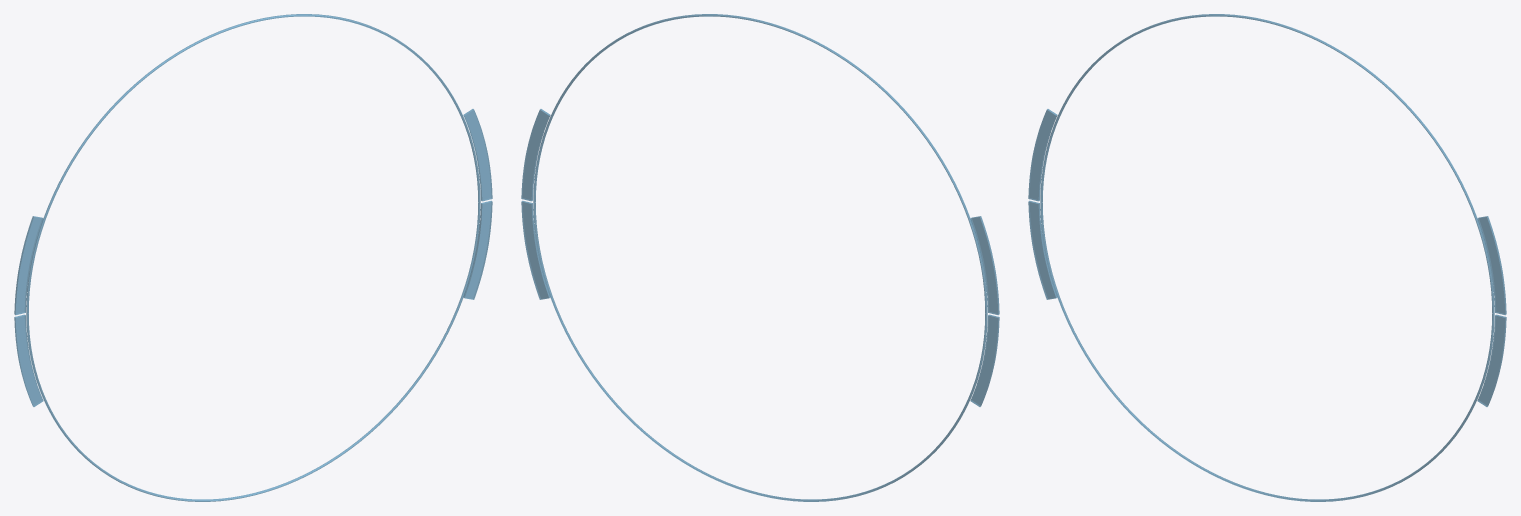
Rendered from gizmoRotateZ.fbx.
3 views of the same model, side by side, from view 1: azimuth 30°, elevation 25°; view 2: azimuth 150°, elevation 25°; view 3: azimuth 330°, elevation 25° (orthographic).
Visible parts, largest first — view 1: gizmoRotateZ; view 2: gizmoRotateZ; view 3: gizmoRotateZ.
Part boxes in pixels (x1=…): gizmoRotateZ: x1=14, y1=14, x2=492, y2=501; gizmoRotateZ: x1=521, y1=14, x2=999, y2=501; gizmoRotateZ: x1=1028, y1=14, x2=1506, y2=501.
Bounding box in the file's own units: 106 × 100 × 0.5.
